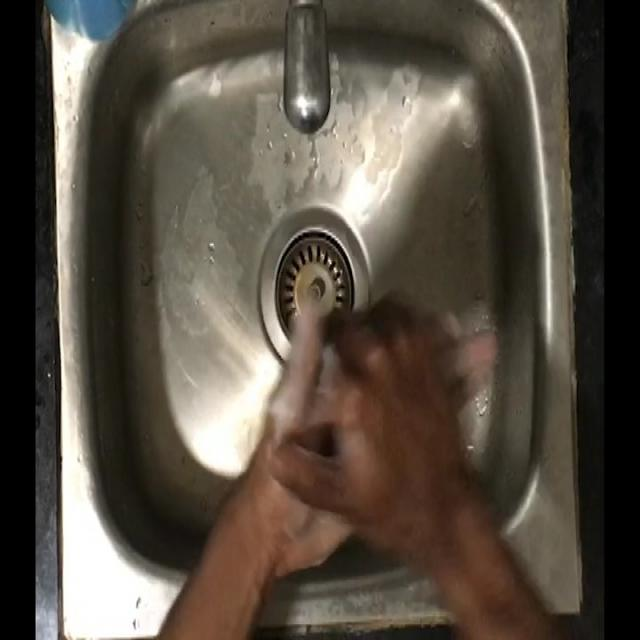step_5: (249, 284, 502, 577)
